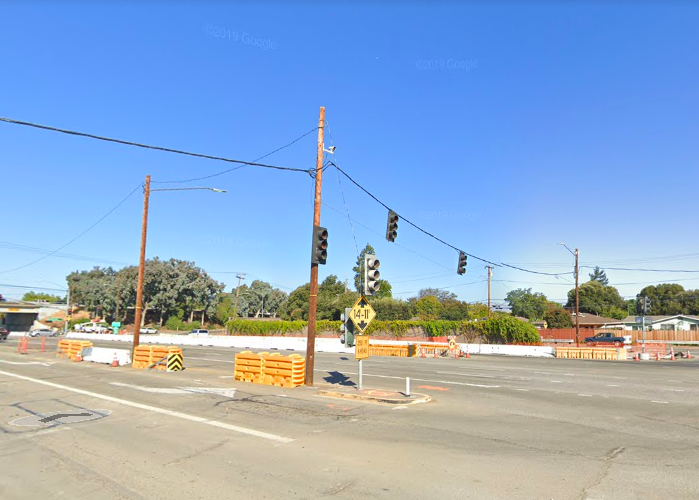utility_pole: (303, 97, 338, 176)
